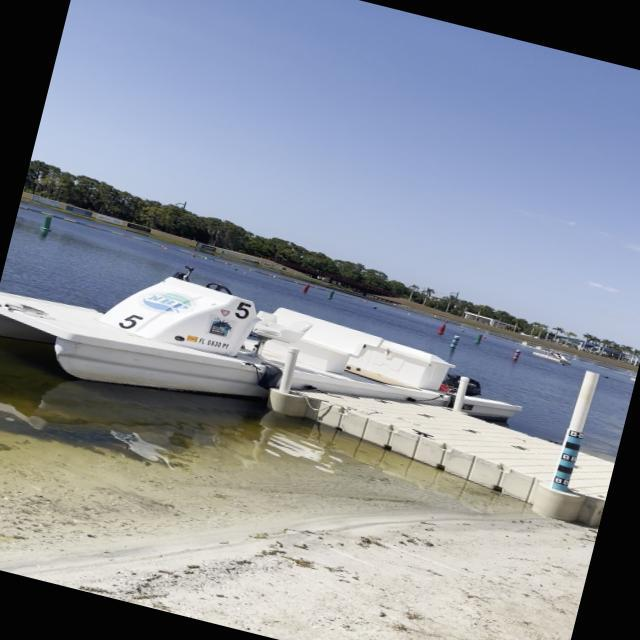buoy: (460, 328, 466, 332), (372, 306, 378, 310), (603, 375, 608, 379), (560, 362, 564, 366), (225, 264, 229, 268), (242, 271, 247, 274), (280, 282, 284, 285), (272, 275, 276, 278), (164, 247, 168, 250), (482, 336, 487, 338), (234, 268, 238, 270), (204, 257, 208, 259), (210, 260, 213, 262)
